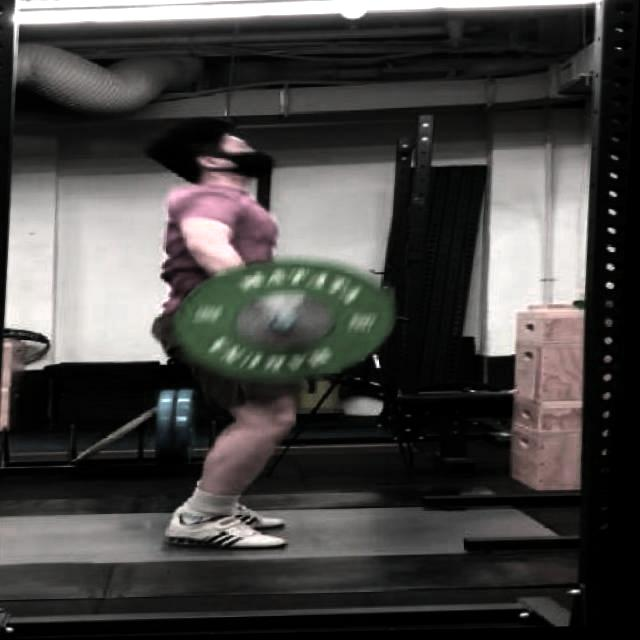barbell: (162, 253, 410, 395)
